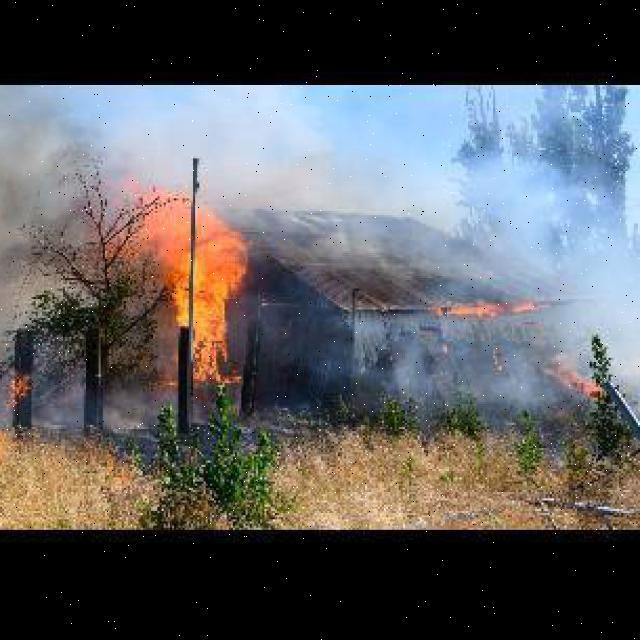fire: (111, 177, 258, 385), (548, 341, 617, 408), (426, 288, 541, 314), (0, 364, 36, 417)
smoke: (245, 82, 640, 286), (262, 316, 546, 440), (42, 387, 262, 440)
